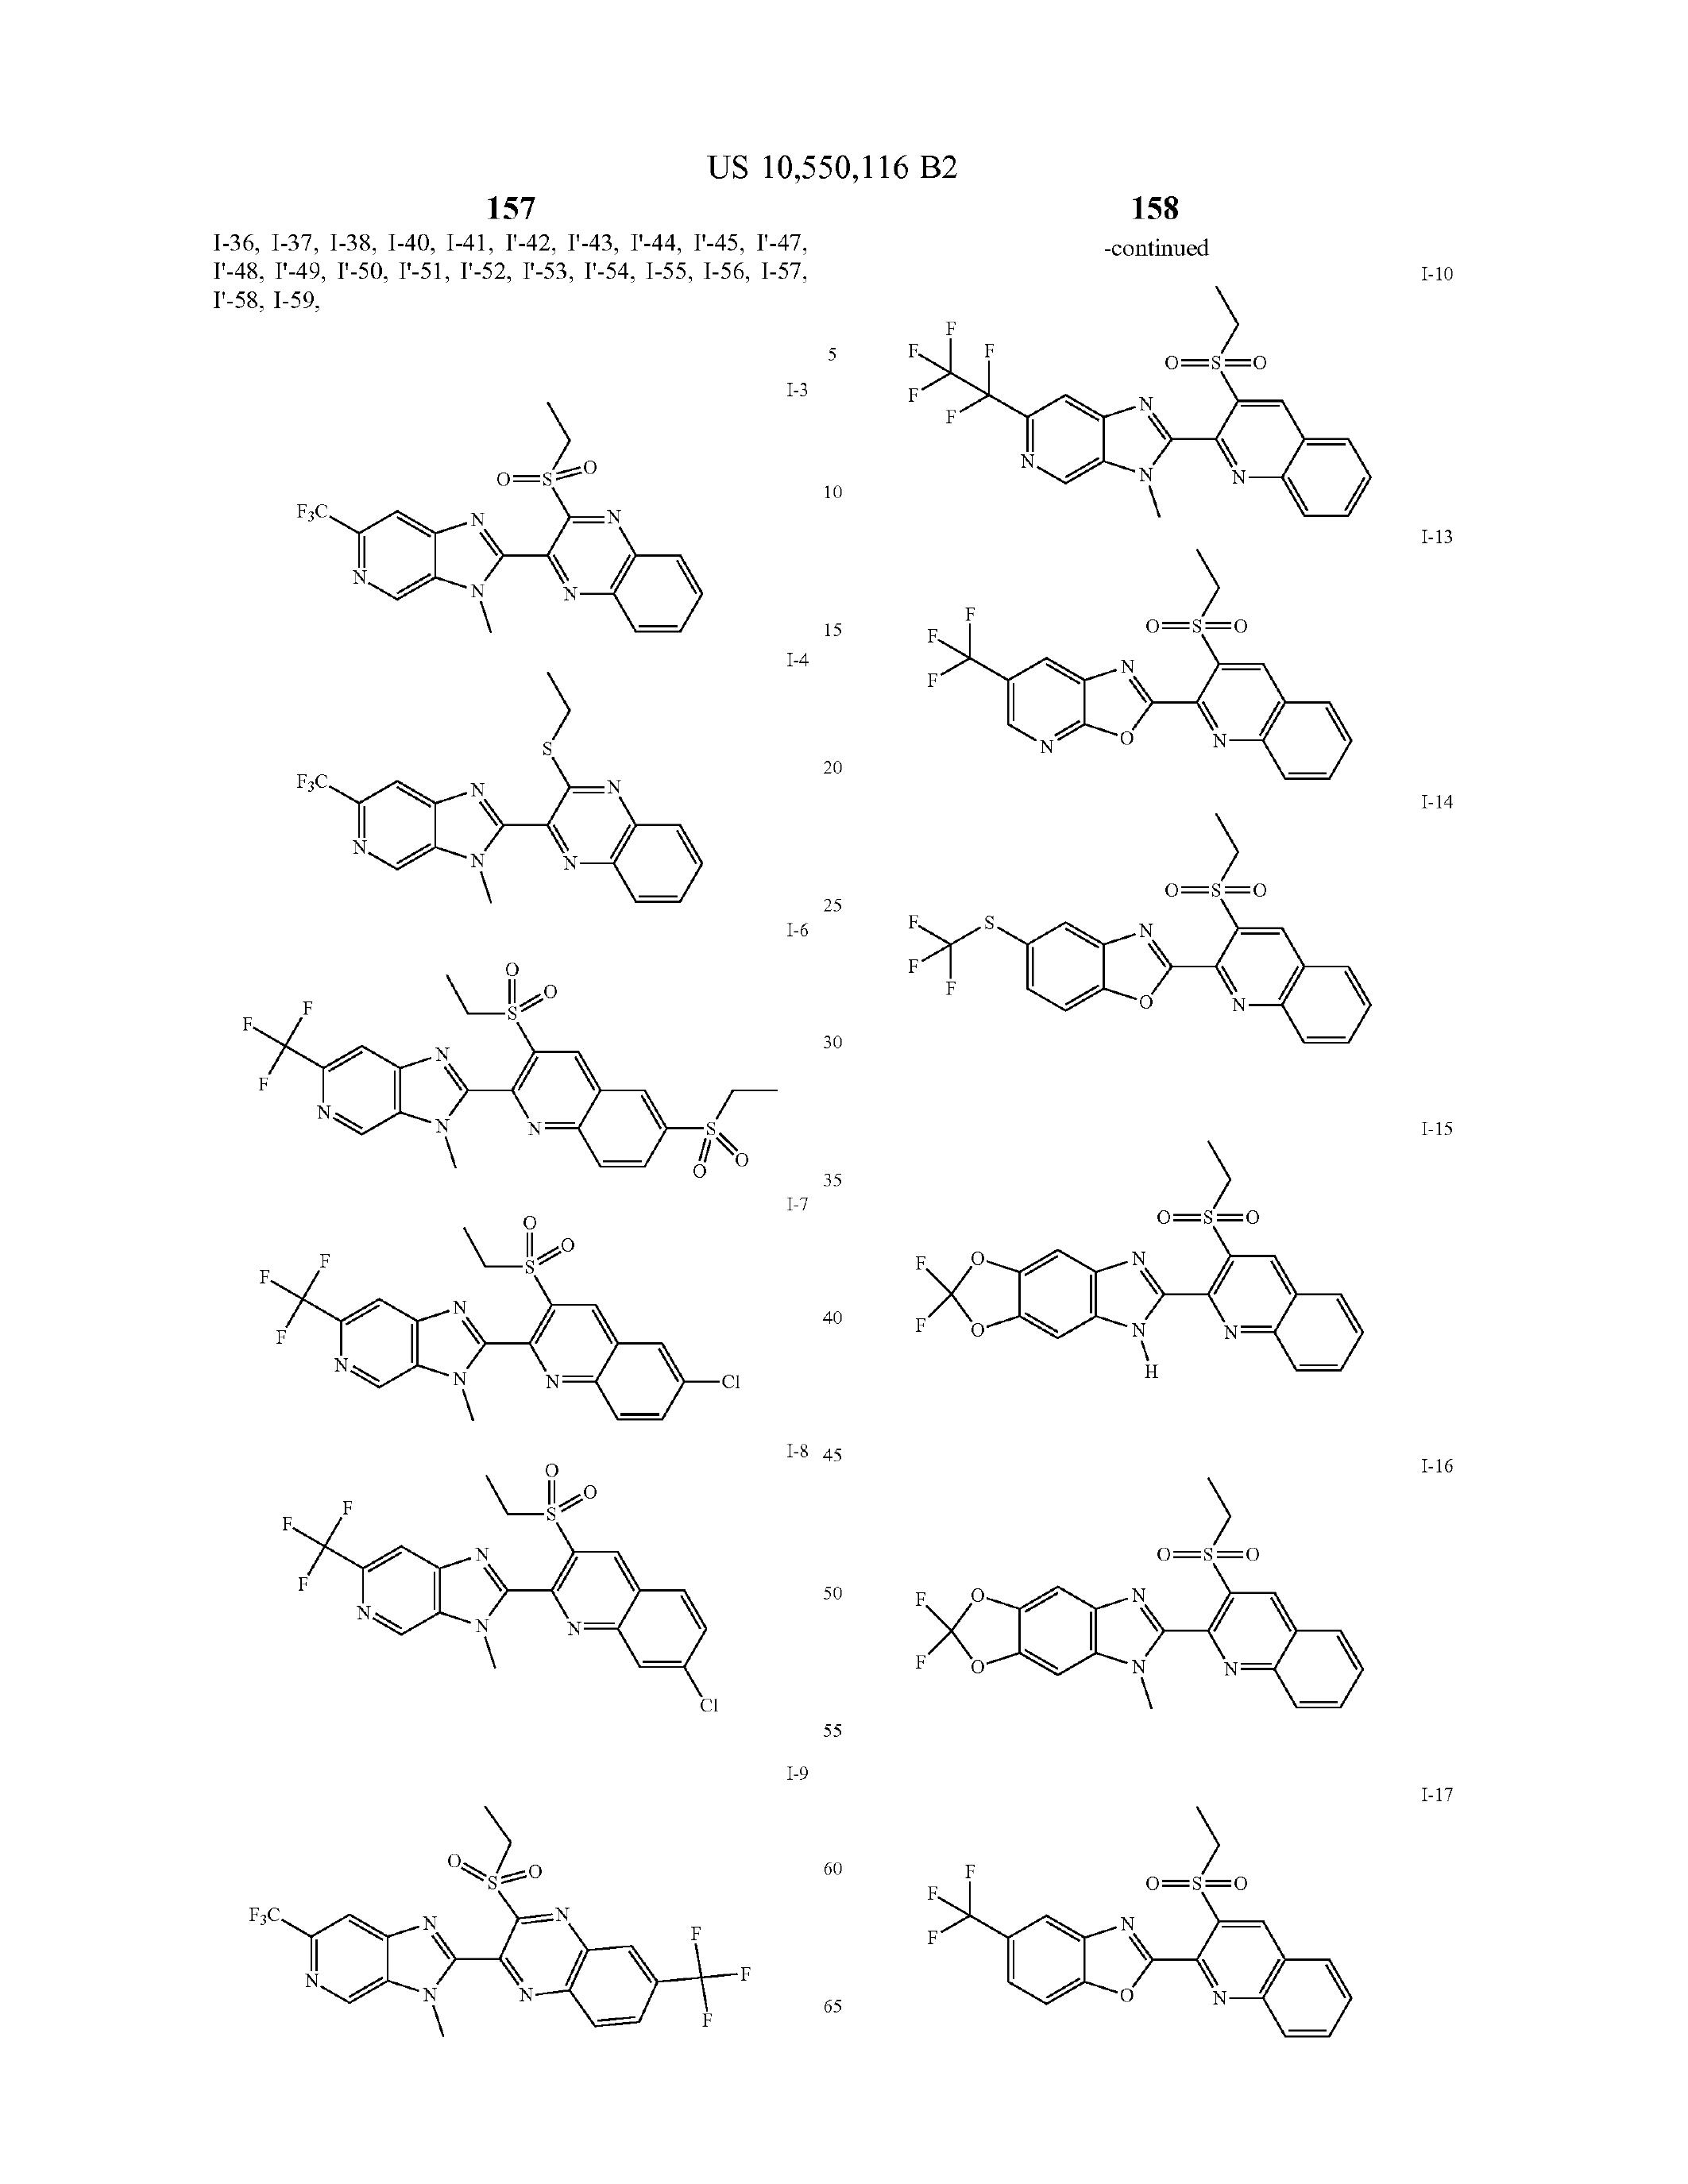relevant-structures: (209, 1787, 777, 2156), (897, 1821, 1418, 2122), (231, 1445, 736, 1746), (851, 269, 1399, 542), (878, 1480, 1399, 1757), (207, 938, 761, 1197), (871, 833, 1406, 1085), (894, 1165, 1371, 1436), (234, 1197, 752, 1436), (262, 413, 741, 645), (888, 560, 1351, 796), (252, 677, 725, 906)
